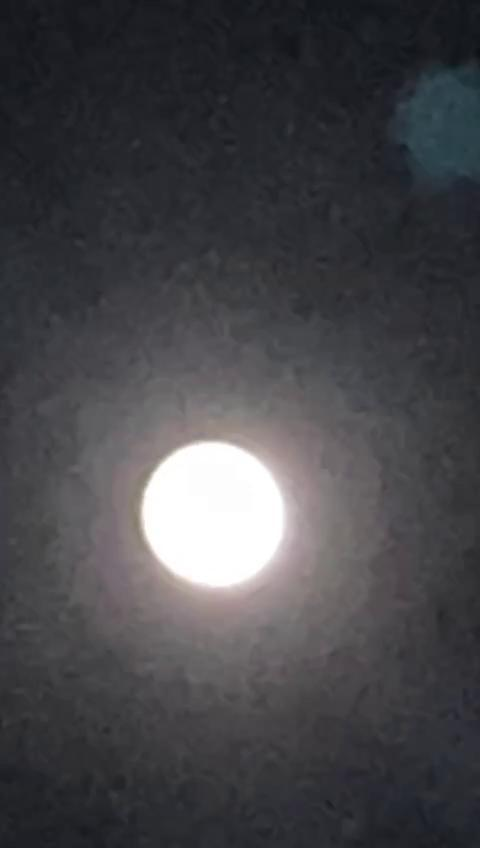moon: (119, 416, 297, 606)
